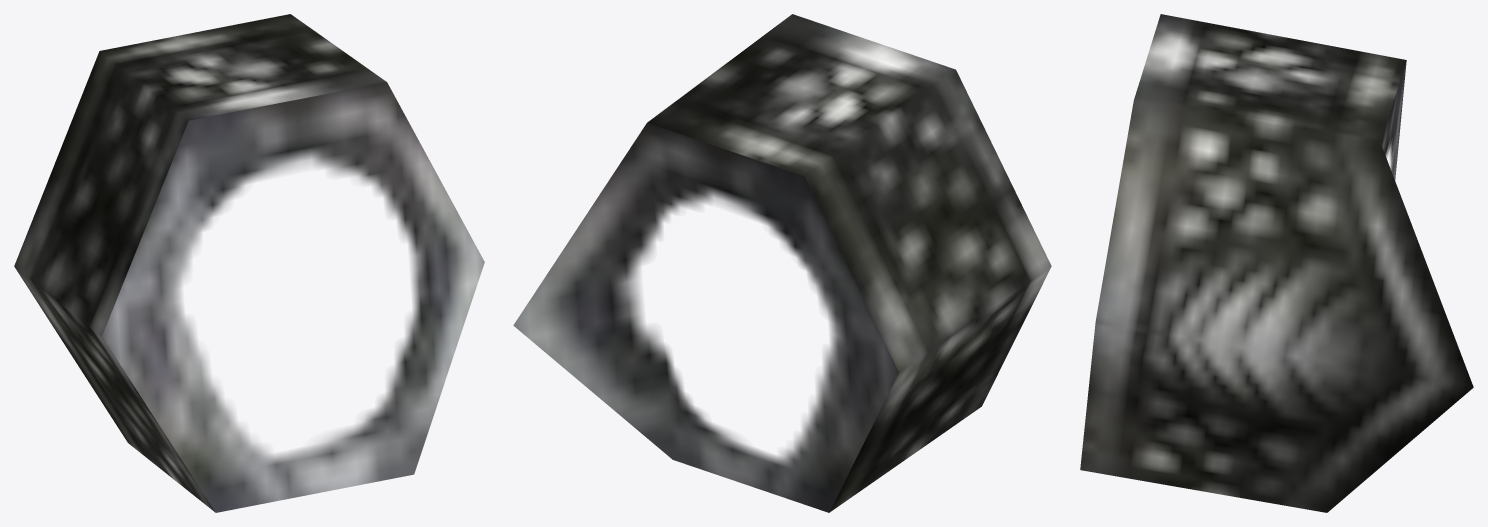
Rendered from shadow_pawn_7_wrist_left.glb.
The picture shows the model from 3 angles, left to right: view 1: azimuth 30°, elevation 25°; view 2: azimuth 150°, elevation 25°; view 3: azimuth 270°, elevation 25°; orthographic projection. The views are drawn at different scales.
Parts seen in each view (by area): view 1: model_shadow_pawn_7_wrist_left; view 2: model_shadow_pawn_7_wrist_left; view 3: model_shadow_pawn_7_wrist_left.
Boxes of the visible parts, x1,y1,x2,y2 form: model_shadow_pawn_7_wrist_left: (14,14,484,512); model_shadow_pawn_7_wrist_left: (513,14,1051,512); model_shadow_pawn_7_wrist_left: (1080,14,1473,512).
Bounding box in the file's own units: 0.1757 × 0.1704 × 0.1511.
1 material, 1 textured.
